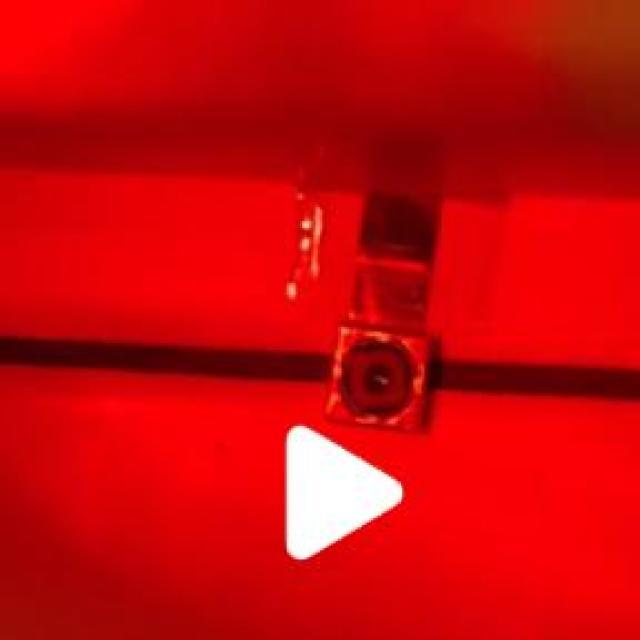hidden camera: (337, 338, 409, 418)
